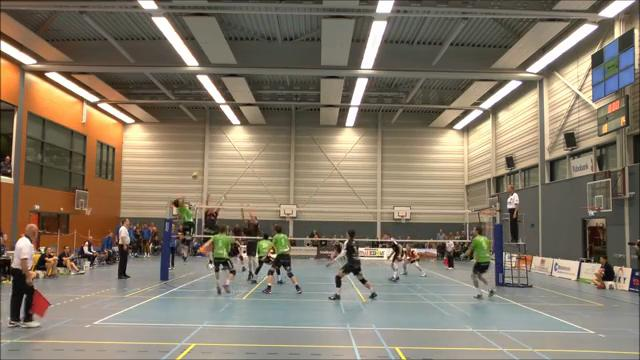Attack: (161, 193, 196, 262)
Block: (201, 189, 228, 239)
Player: (327, 230, 376, 299), (263, 224, 301, 293), (200, 225, 235, 294), (466, 227, 490, 298), (242, 209, 259, 280), (252, 233, 273, 283), (402, 244, 426, 276), (230, 225, 245, 271), (387, 238, 403, 281), (330, 241, 342, 260)
ball: (191, 170, 198, 180)
